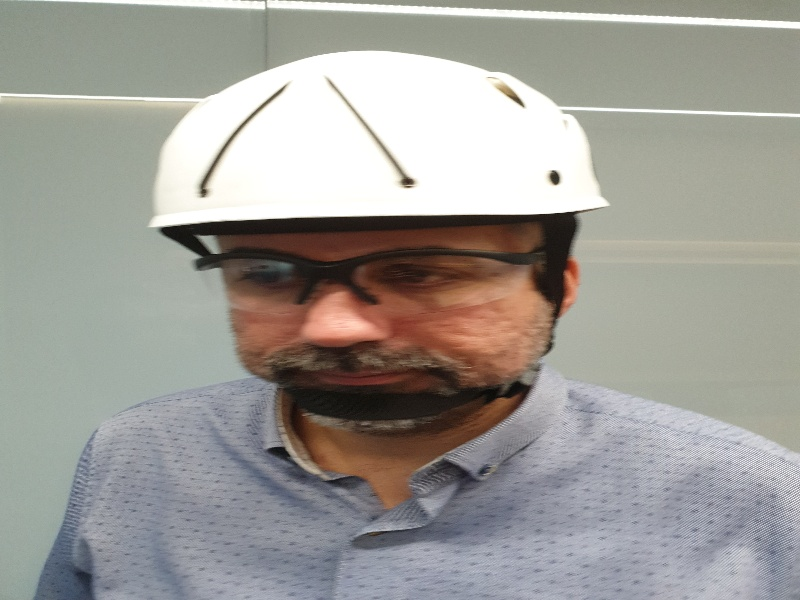Baret: (156, 47, 610, 221)
Gozluk: (187, 248, 567, 315)
